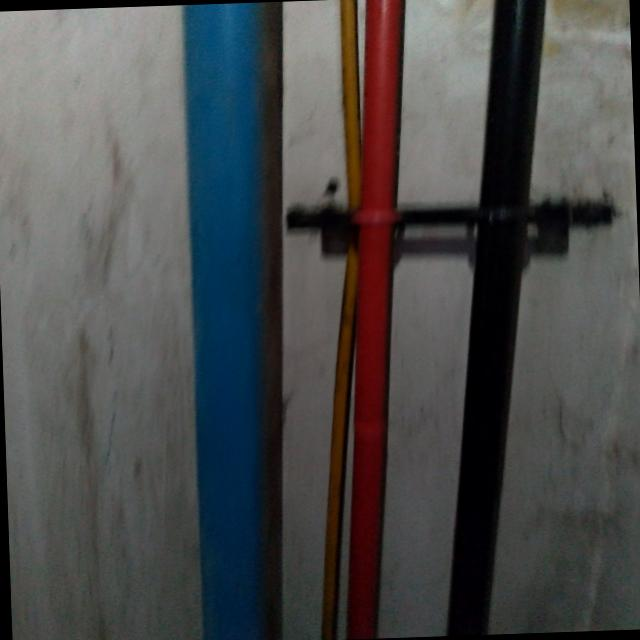gas: (172, 1, 286, 640), (446, 0, 544, 630), (344, 0, 404, 639)
